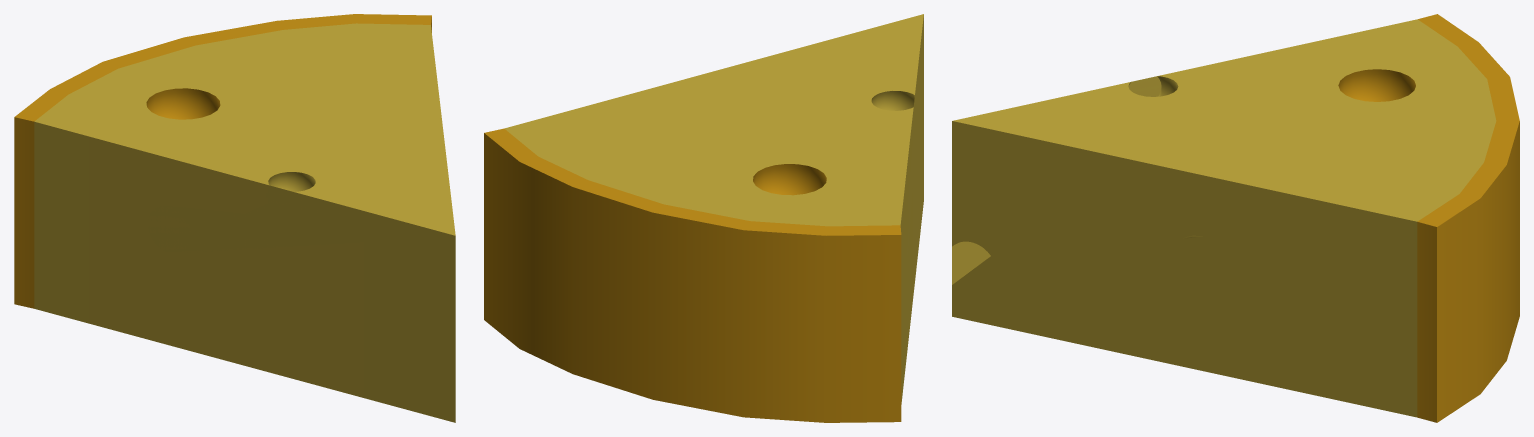
The model's file is Cheese_Slice.fbx.
3 views of the same model, side by side, from view 1: azimuth 30°, elevation 25°; view 2: azimuth 150°, elevation 25°; view 3: azimuth 270°, elevation 25° (orthographic). The views are drawn at different scales.
Parts seen in each view (by area): view 1: pCube7; view 2: pCube7; view 3: pCube7.
Part boxes in pixels (left/top/right/bottom): pCube7: left=14, top=14, right=455, bottom=422; pCube7: left=484, top=14, right=923, bottom=422; pCube7: left=952, top=14, right=1519, bottom=422.
Size of the model in its own units: 80.99 by 34.69 by 91.15.
